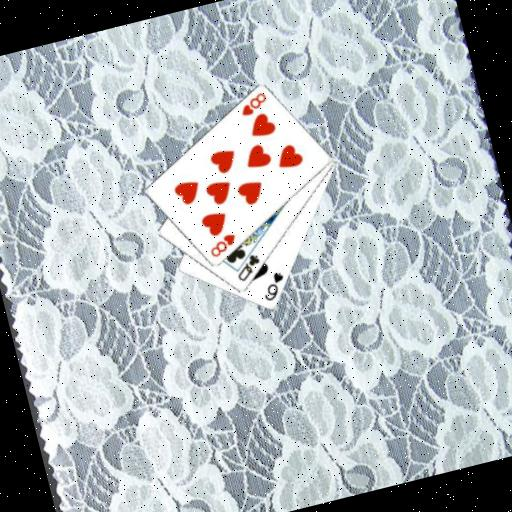6S: (256, 268, 290, 304)
8H: (204, 230, 241, 261), (235, 88, 272, 119)
QC: (230, 250, 266, 285)
